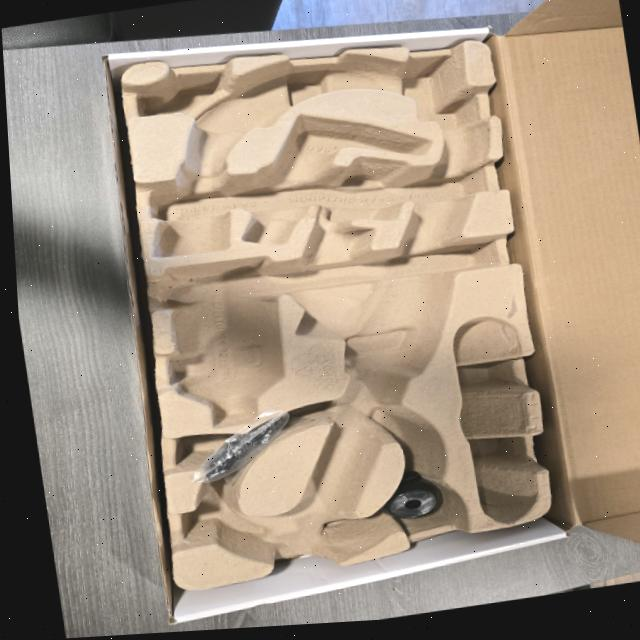1m: (153, 56, 485, 573)
2m: (244, 114, 431, 242)
3m: (160, 256, 284, 428)
4m: (453, 316, 536, 523)
5: (385, 480, 442, 517)
6m: (184, 498, 270, 551)
7: (190, 407, 309, 484)
